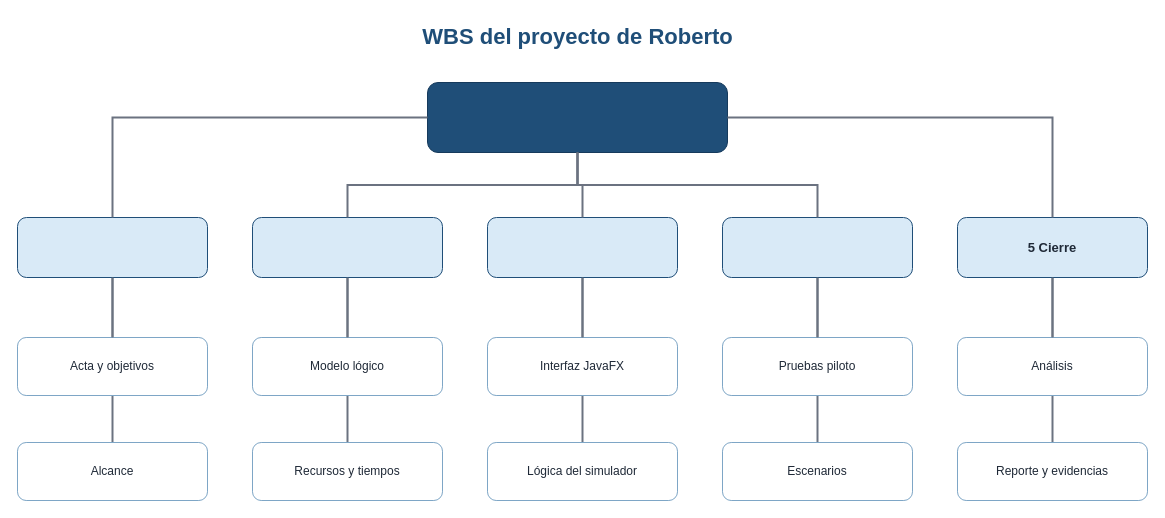
The diagram is 1165 pixels wide and 518 high, and some of its shapes have lost their labels. The box of each missing label's shape, as (x1, y1, x2, y2) in pixels:
1 Inicio: (16, 216, 208, 278)
2 Planificación: (252, 216, 442, 278)
3 Desarrollo: (486, 216, 678, 278)
4 Validación: (722, 216, 912, 278)
Proyecto Roberto: (426, 82, 728, 152)
